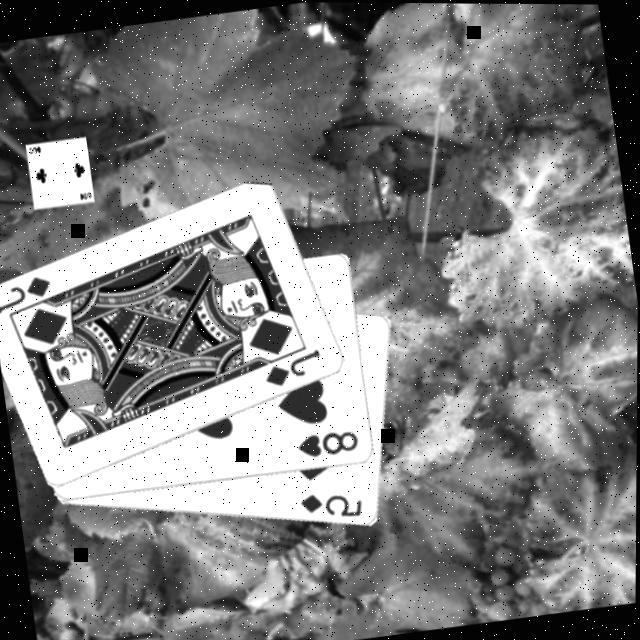5D: (296, 483, 367, 526)
8H: (292, 423, 362, 462)
JD: (258, 343, 327, 391), (0, 269, 57, 316)
